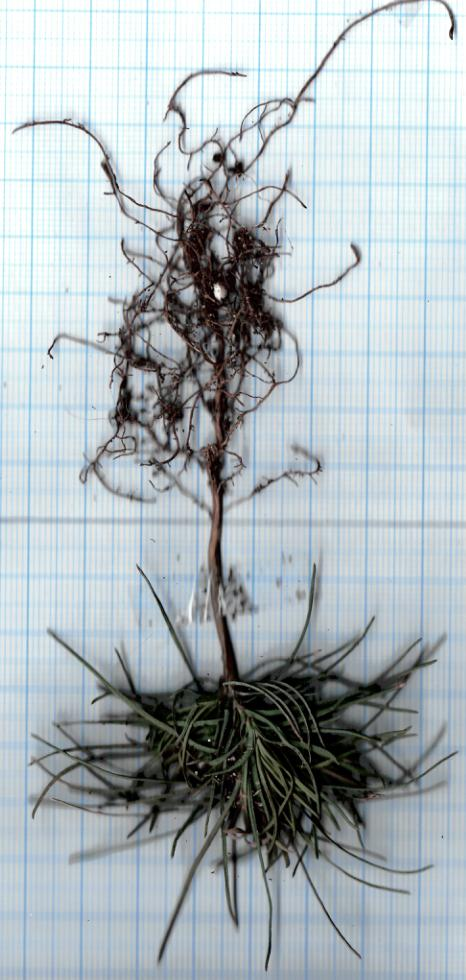flower: (11, 669, 466, 980)
root: (9, 0, 465, 525)
stem: (204, 518, 249, 675)
